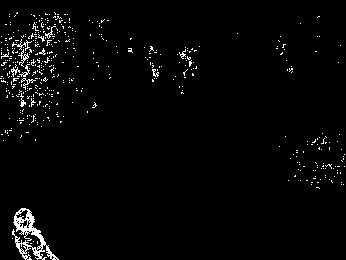person: (10, 206, 60, 260)
